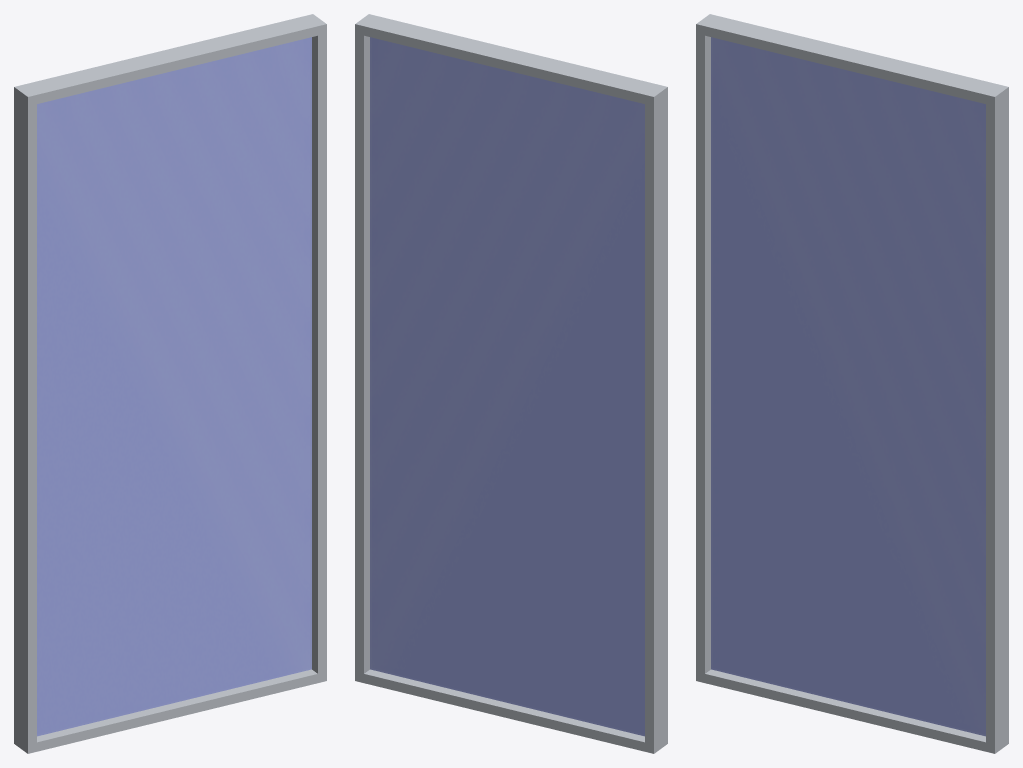
3 renders of one model, left to right at view 1: azimuth 30°, elevation 25°; view 2: azimuth 150°, elevation 25°; view 3: azimuth 330°, elevation 25°, orthographic.
Visible parts, largest first — view 1: glass, frame; view 2: glass, frame; view 3: glass, frame.
Part boxes in pixels (x1,y1,x2,y2): glass: [37, 37, 311, 736]; frame: [14, 14, 326, 753]; glass: [370, 37, 644, 736]; frame: [355, 14, 667, 753]; glass: [711, 37, 985, 736]; frame: [696, 14, 1008, 753].
Size of the model in its own units: 1 by 2.1 by 0.08.
